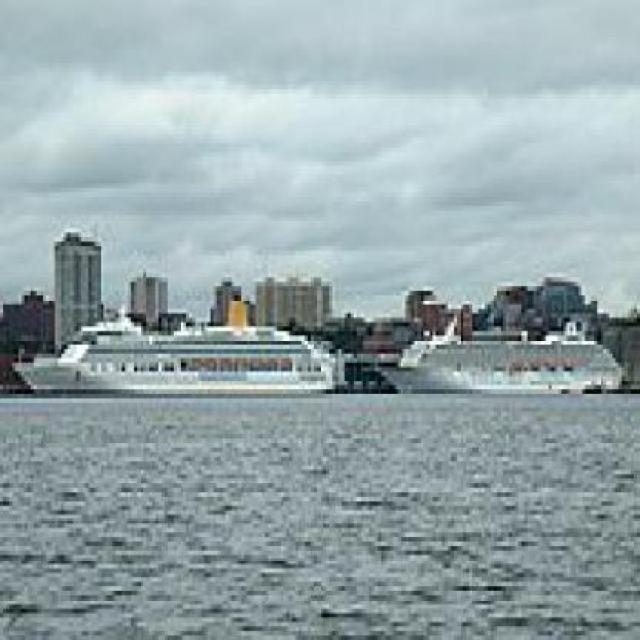cruise: (13, 297, 349, 400), (367, 309, 632, 408)
